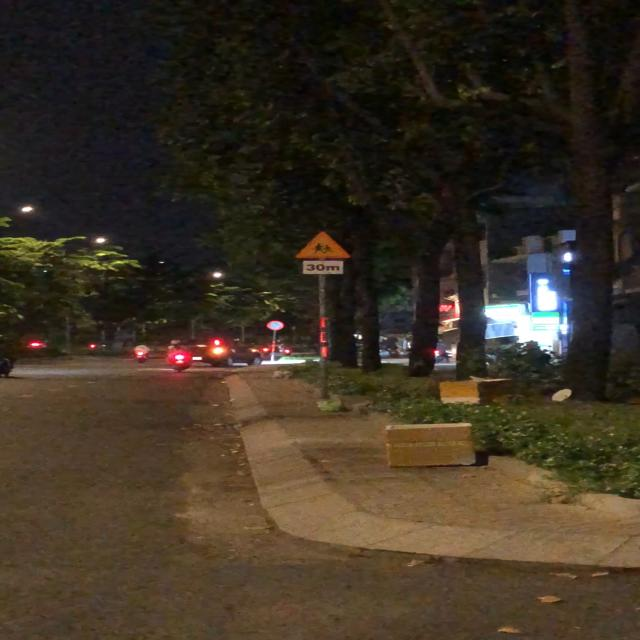Bien bao tre em: (293, 230, 352, 261)
